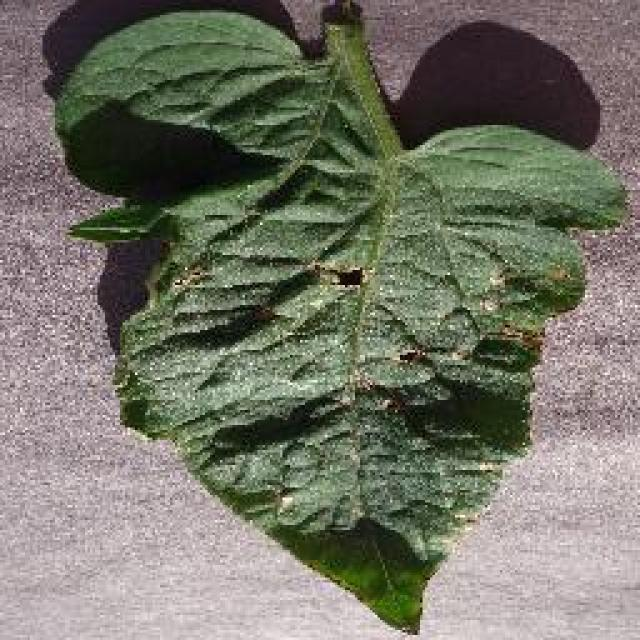Tomato___Target_Spot: (55, 0, 625, 632)
